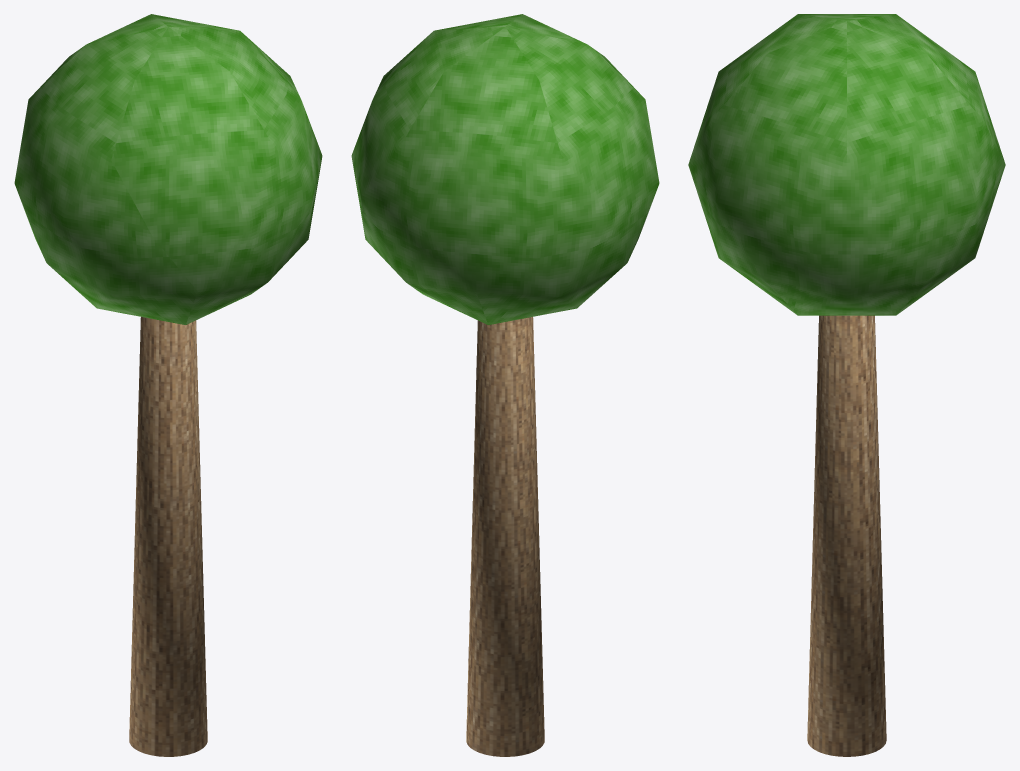
The model's file is tree.obj.
3 renders of one model, left to right at view 1: azimuth 30°, elevation 25°; view 2: azimuth 150°, elevation 25°; view 3: azimuth 270°, elevation 25°, orthographic.
Parts seen in each view (by area): view 1: Icosphere, Cylinder; view 2: Icosphere, Cylinder; view 3: Icosphere, Cylinder.
Boxes of the visible parts, x1=… form: Icosphere: x1=14, y1=14, x2=322, y2=324; Cylinder: x1=129, y1=317, x2=207, y2=756; Icosphere: x1=351, y1=14, x2=659, y2=324; Cylinder: x1=466, y1=317, x2=544, y2=756; Icosphere: x1=688, y1=14, x2=1005, y2=315; Cylinder: x1=807, y1=315, x2=886, y2=756.
Size of the model in its own units: 7.61 by 20 by 8.
